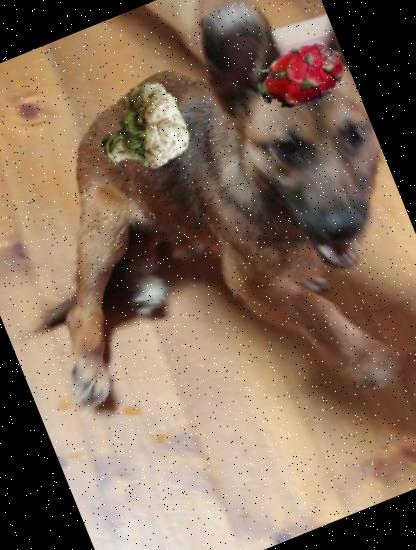Cauliflower: (82, 71, 200, 189)
Pitahaya: (245, 20, 363, 138)
